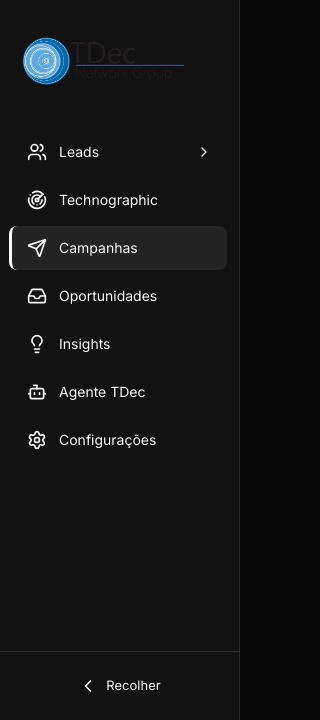
Test case: Sidebar › Submenu - Leads Expandable (Story 4.2.3) › Task 2 - Submenu expansion state › should toggle submenu expand/collapse on click
Check: the menu item "buscar" is not shown
# Click to expand
Click the button "Leads" at (116, 152), box [9, 130, 224, 174]
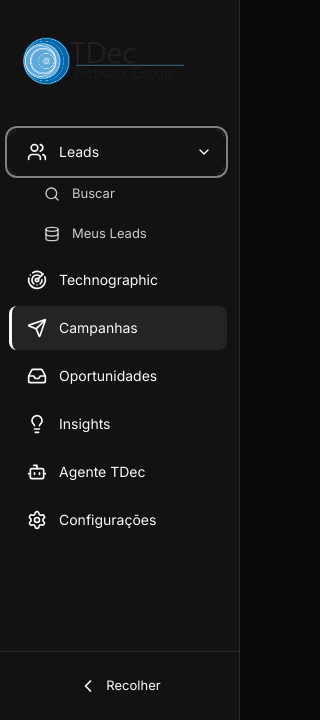
Check: the menu item "Buscar" is shown, box [44, 185, 115, 202]
# Click to collapse
Click the button "Leads" at (116, 152), box [9, 130, 224, 174]
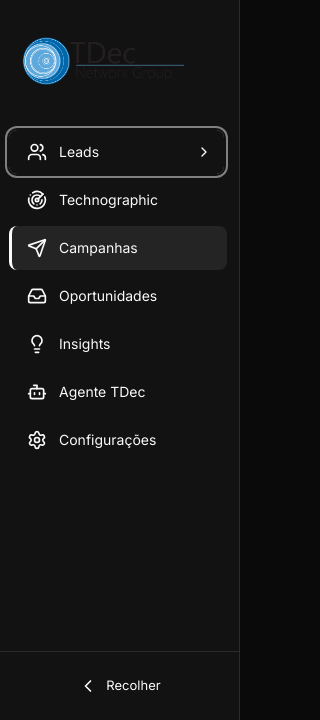
Check: the menu item "Buscar" is gone
